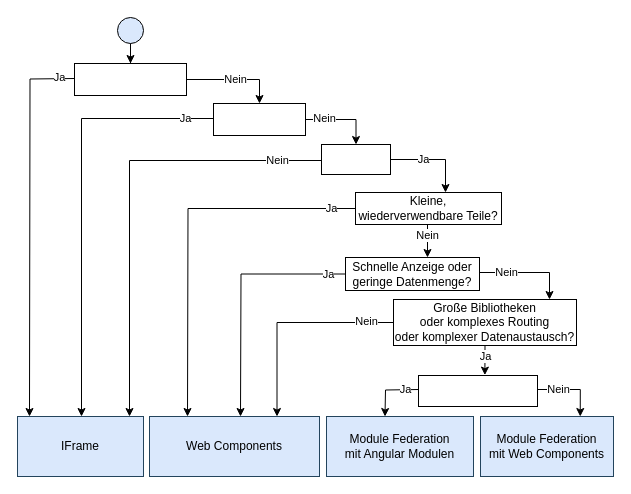
Image size: 631x494. Some labels were removed from this diagram. Here are the shapes that lost their labels. From the top down, the box of each, then its label:
(74, 62, 186, 96): Starke Isolation? (legacy, third party)
(212, 102, 306, 136): Geringer Aufwand nötig?
(320, 144, 390, 174): Frontend Framework?
(418, 374, 538, 406): Microfrontend basiert auf Angular?
